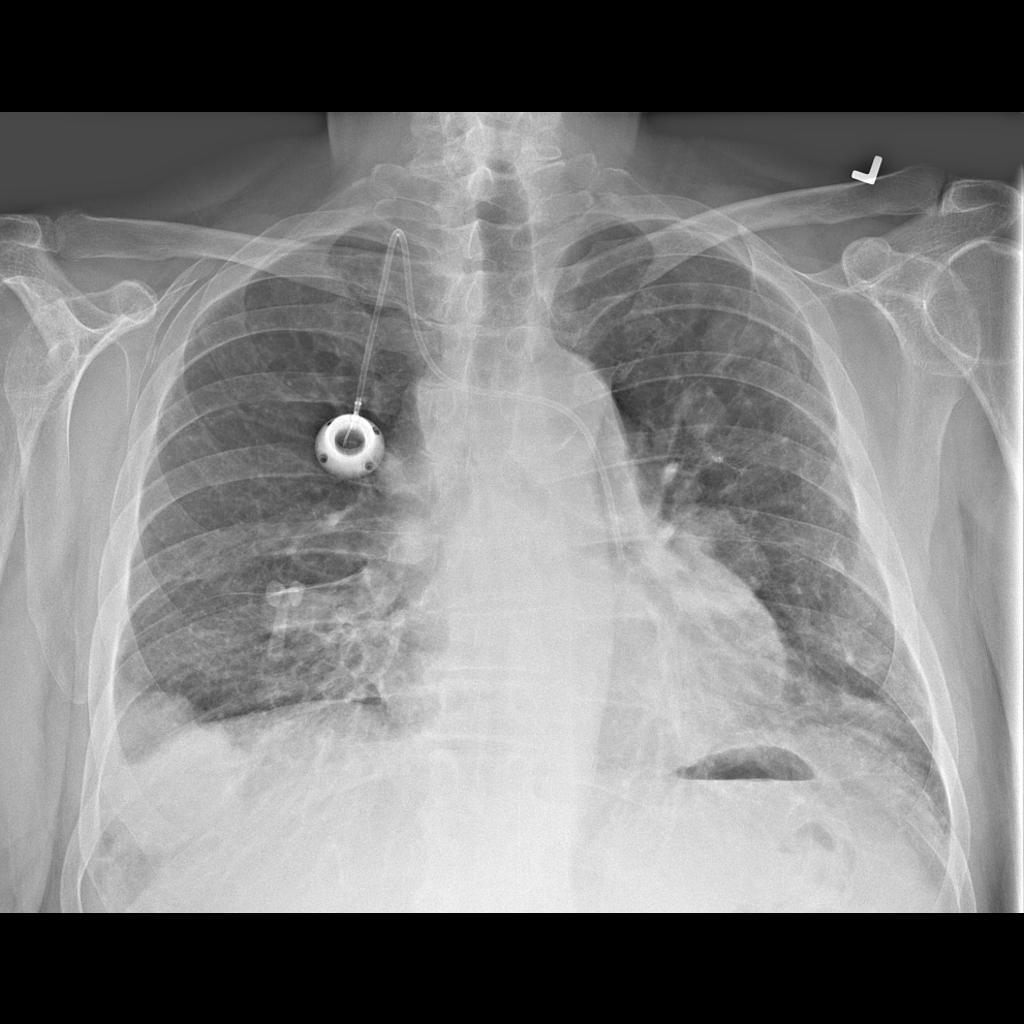Nodule: (103, 677, 249, 852), (649, 499, 769, 614)
